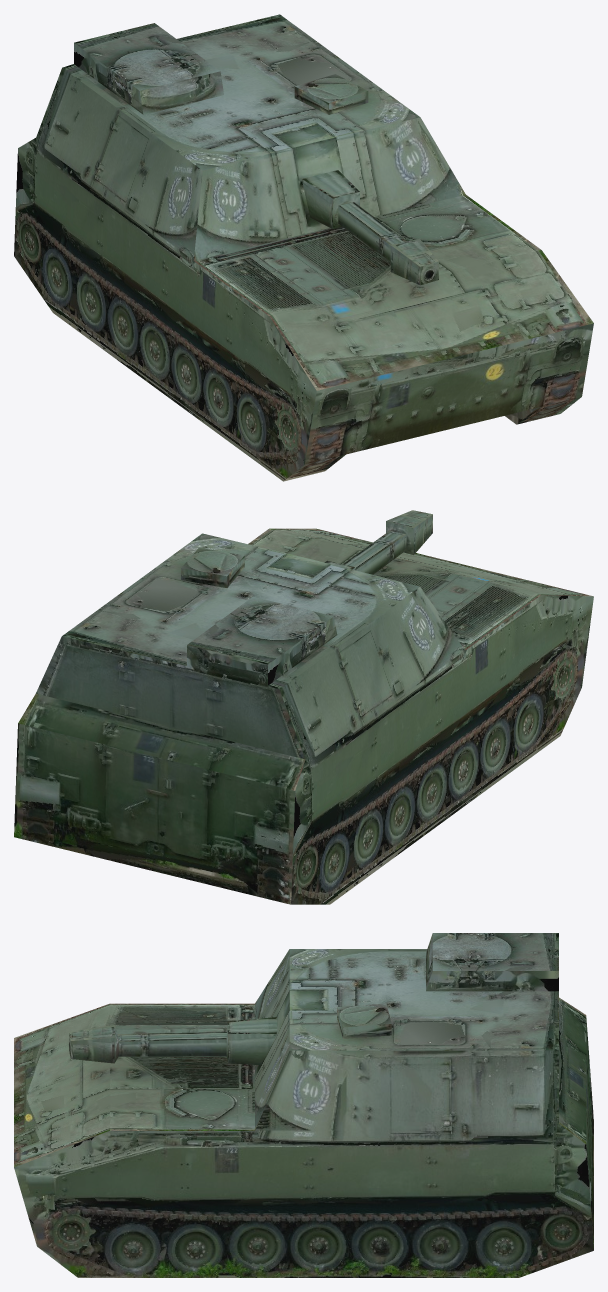
3 renders of one model, top to bottom at view 1: azimuth 30°, elevation 25°; view 2: azimuth 150°, elevation 25°; view 3: azimuth 270°, elevation 25°, orthographic. The views are drawn at different scales.
Visible parts, largest first — view 1: Object_2; view 2: Object_2; view 3: Object_2.
Part boxes in pixels (x1=…): Object_2: x1=14, y1=14, x2=593, y2=481; Object_2: x1=14, y1=510, x2=593, y2=904; Object_2: x1=14, y1=933, x2=593, y2=1277.
Size of the model in its own units: 3.21 by 2.71 by 6.08.
Materials: 1 (1 with a texture image).
